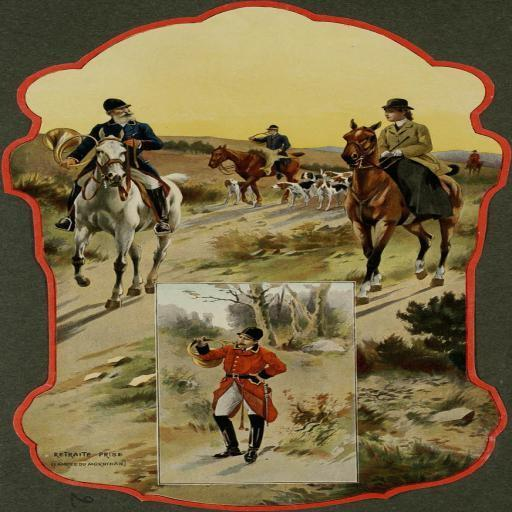horse: (340, 119, 466, 305), (72, 125, 192, 310), (208, 144, 302, 209), (464, 156, 485, 178)
